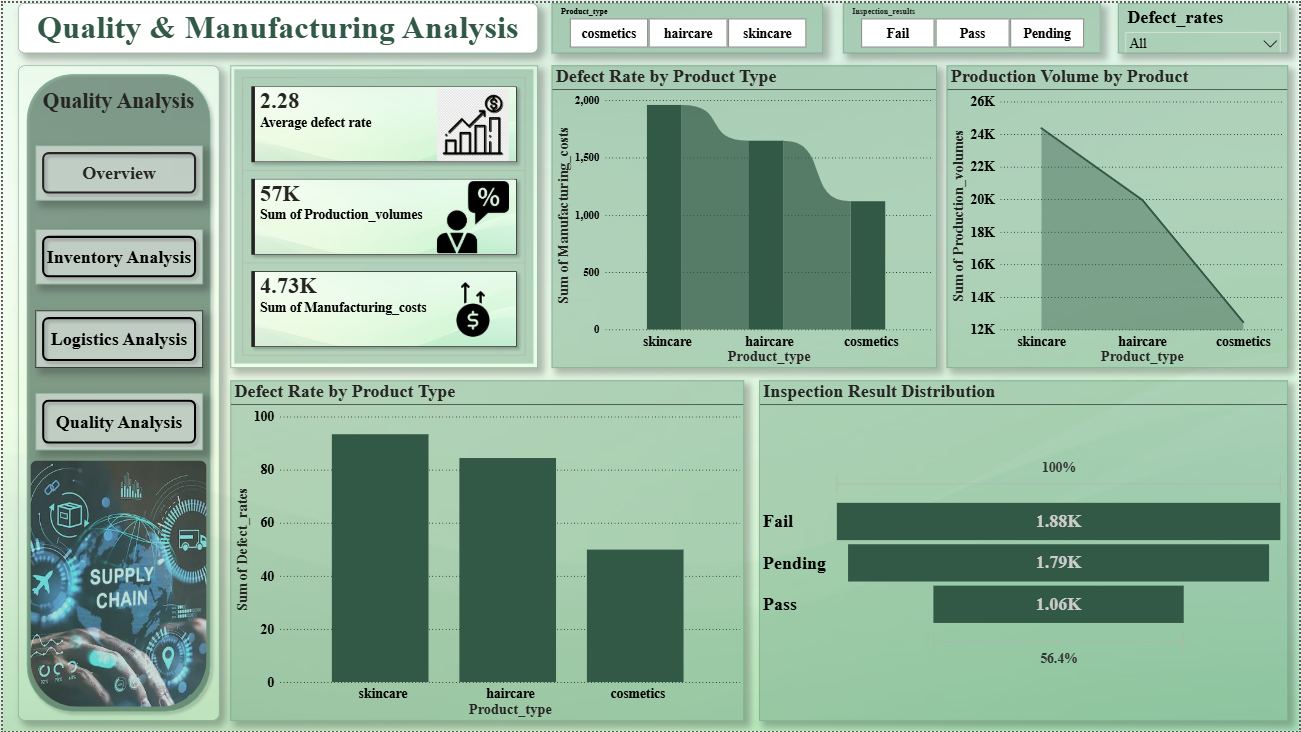

What the dashboard file says about the page in this screenshot:
{"tool":"powerbi","page":{"name":"Quality Analysis","canvas":[1920,1080],"ordinal":3},"visuals":[{"type":"textbox","box":[22.2,0,770.4,74.1],"z":0},{"type":"shape","box":[22.2,92.6,298.1,970.4],"z":1},{"type":"actionButton","box":[48.1,211.1,248.1,81.5],"z":2},{"type":"actionButton","box":[48.1,335.2,248.1,81.5],"z":3},{"type":"actionButton","box":[48.1,455.6,248.1,85.2],"z":4},{"type":"actionButton","box":[48.1,577.8,248.1,85.2],"z":5},{"type":"image","box":[40.7,677.8,261.1,364.8],"z":6},{"type":"cardVisual","fields":{"Data":["supply_chain_data.Average defect rate","Sum(supply_chain_data.Production_volumes)","Sum(supply_chain_data.Manufacturing_costs)"]},"box":[337,92.6,455.6,448.1],"z":7},{"type":"clusteredColumnChart","title":"Defect Rate by Product Type","fields":{"Category":["supply_chain_data.Product_type"],"Y":["Sum(supply_chain_data.Defect_rates)"]},"box":[337,559.3,761.1,503.7],"z":8},{"type":"ribbonChart","title":"Defect Rate by Product Type","fields":{"Category":["supply_chain_data.Product_type"],"Y":["Sum(supply_chain_data.Manufacturing_costs)"]},"box":[813,92.6,570.4,448.1],"z":9},{"type":"funnel","title":"Inspection Result Distribution","fields":{"Category":["supply_chain_data.Inspection_results"],"Y":["Sum(supply_chain_data.Manufacturing_costs)"]},"box":[1120.4,559.3,783.3,503.7],"z":10},{"type":"stackedAreaChart","title":"Production Volume by Product","fields":{"Category":["supply_chain_data.Product_type"],"Y":["Sum(supply_chain_data.Production_volumes)"]},"box":[1398.1,92.6,505.6,448.1],"z":11},{"type":"slicer","fields":{"Values":["supply_chain_data.Product_type"]},"box":[813,0,401.9,74.1],"z":12},{"type":"slicer","fields":{"Values":["supply_chain_data.Inspection_results"]},"box":[1244.4,0,381.5,74.1],"z":13},{"type":"slicer","fields":{"Values":["supply_chain_data.Defect_rates"]},"box":[1651.9,0,251.9,74.1],"z":14}]}

Visuals, with their boxes in screenshot pixels (x1, y1, x2, y2), scaled from the page's 1920x1080 canvas onto the 1301x732 screenshot:
textbox: <bbox>15, 0, 537, 50</bbox>
shape: <bbox>15, 63, 217, 720</bbox>
actionButton: <bbox>33, 143, 201, 198</bbox>
actionButton: <bbox>33, 227, 201, 282</bbox>
actionButton: <bbox>33, 309, 201, 367</bbox>
actionButton: <bbox>33, 392, 201, 449</bbox>
image: <bbox>28, 459, 205, 707</bbox>
cardVisual - supply_chain_data.Average defect rate x Sum(supply_chain_data.Production_volumes): <bbox>228, 63, 537, 366</bbox>
"Defect Rate by Product Type" clusteredColumnChart: <bbox>228, 379, 744, 720</bbox>
"Defect Rate by Product Type" ribbonChart: <bbox>551, 63, 937, 366</bbox>
"Inspection Result Distribution" funnel: <bbox>759, 379, 1290, 720</bbox>
"Production Volume by Product" stackedAreaChart: <bbox>947, 63, 1290, 366</bbox>
slicer - supply_chain_data.Product_type: <bbox>551, 0, 823, 50</bbox>
slicer - supply_chain_data.Inspection_results: <bbox>843, 0, 1102, 50</bbox>
slicer - supply_chain_data.Defect_rates: <bbox>1119, 0, 1290, 50</bbox>
